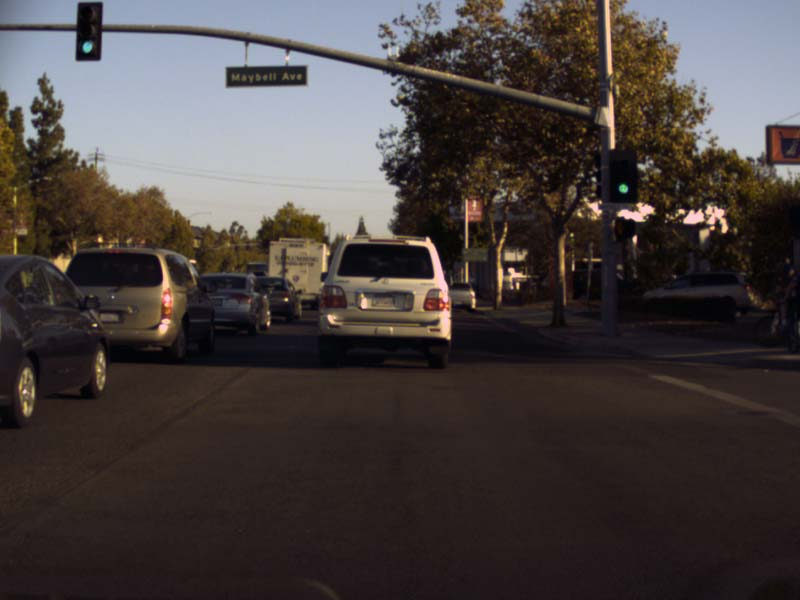Green: (76, 0, 101, 61), (609, 149, 636, 203)
